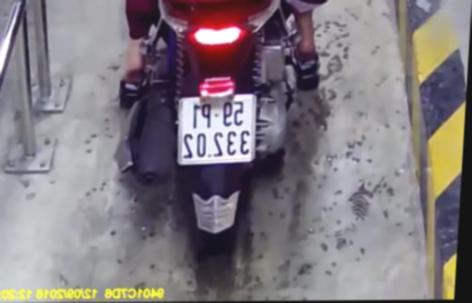License_Plate: (167, 90, 265, 175)
